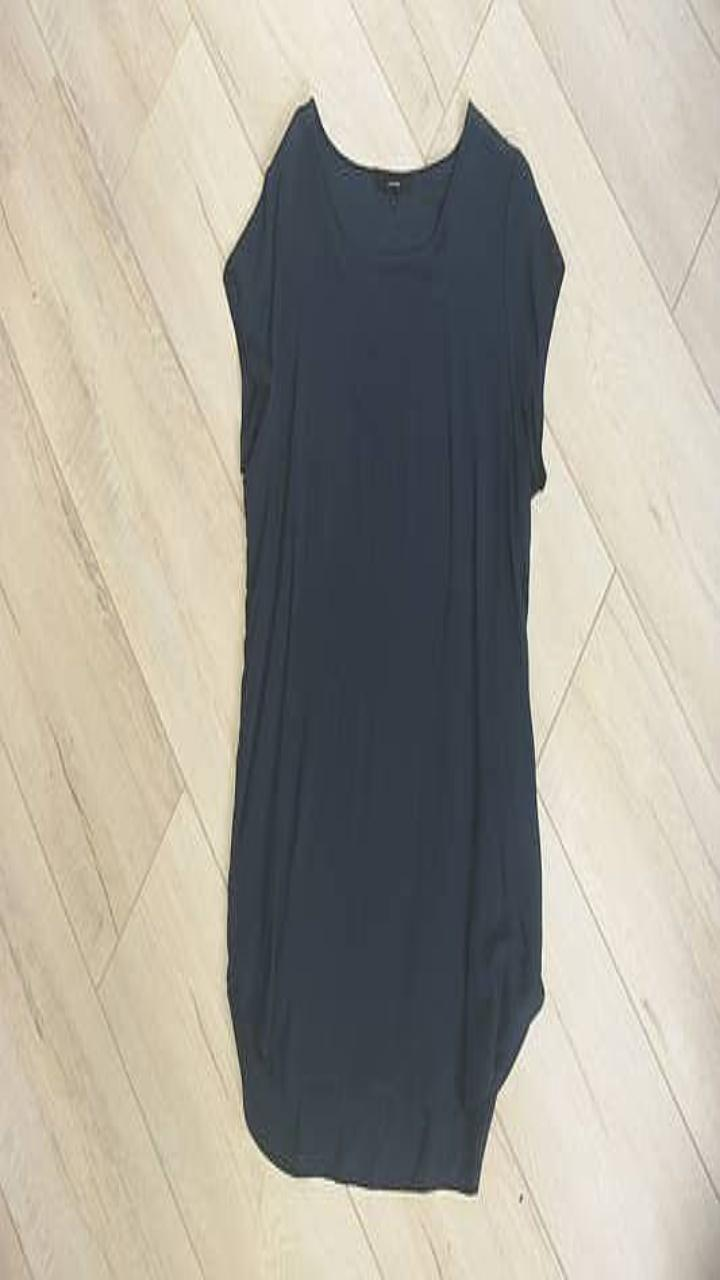T-Shirt: (223, 97, 564, 1192)
